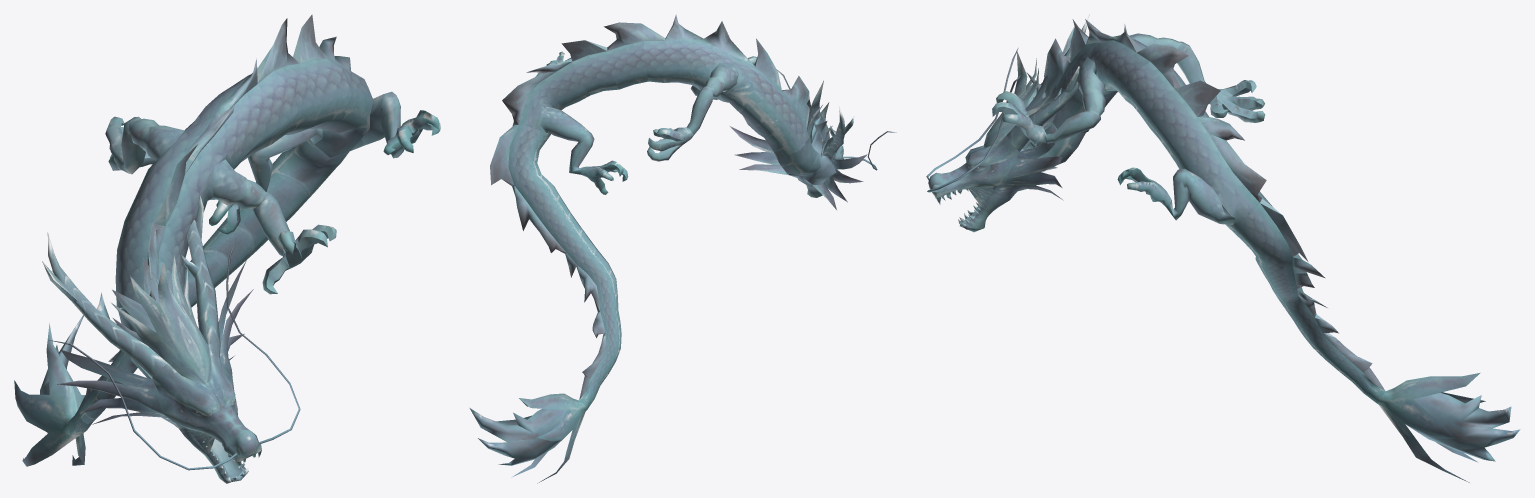
The model's file is Hangzhou_wj_068.FBX.
3 renders of one model, left to right at view 1: azimuth 30°, elevation 25°; view 2: azimuth 150°, elevation 25°; view 3: azimuth 270°, elevation 25°, orthographic. The views are drawn at different scales.
Parts seen in each view (by area): view 1: DrawCall_1097; view 2: DrawCall_1097; view 3: DrawCall_1097.
Part boxes in pixels (left/top/right/bottom): DrawCall_1097: left=14, top=14, right=440, bottom=483; DrawCall_1097: left=469, top=14, right=896, bottom=483; DrawCall_1097: left=926, top=14, right=1520, bottom=482.
Bounding box in the file's own units: 189 × 220 × 264.
1 material, 1 textured.
